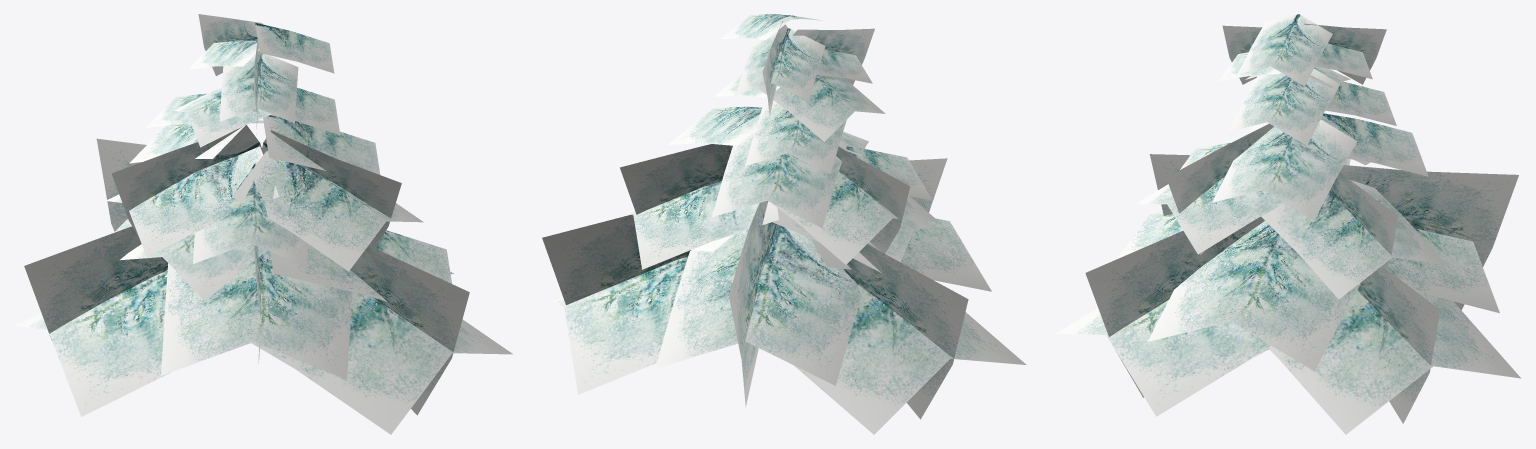
The model's file is tree07.obj.
3 renders of one model, left to right at view 1: azimuth 30°, elevation 25°; view 2: azimuth 150°, elevation 25°; view 3: azimuth 270°, elevation 25°, orthographic. The views are drawn at different scales.
Visible parts, largest first — view 1: tree07; view 2: tree07; view 3: tree07.
Boxes of the visible parts, bbox=[...] form: tree07: bbox=[15, 14, 512, 434]; tree07: bbox=[542, 14, 1026, 434]; tree07: bbox=[1056, 14, 1521, 434].
Size of the model in its own units: 413 by 328 by 402.
